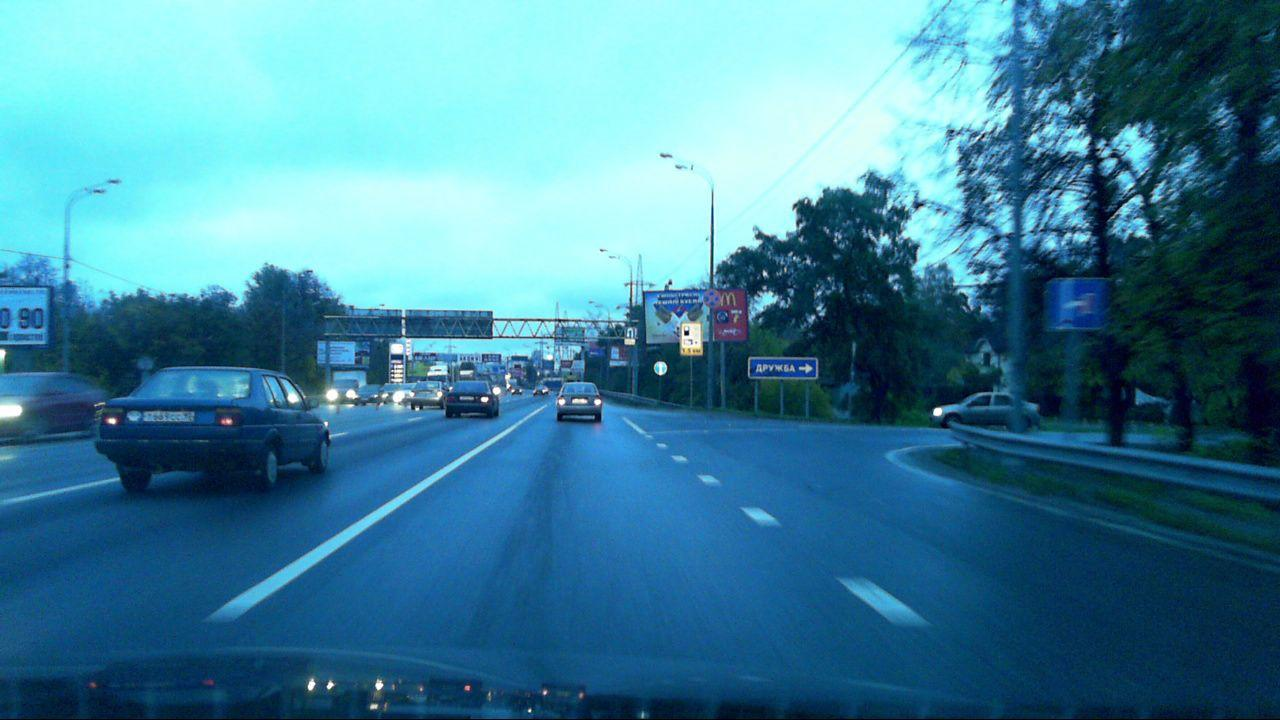3_27: (704, 288, 719, 309)
4_1_1: (654, 362, 668, 376)
6_10_1: (747, 356, 819, 380)
6_3_1: (624, 325, 638, 338)
6_8_2: (1046, 277, 1106, 330)
